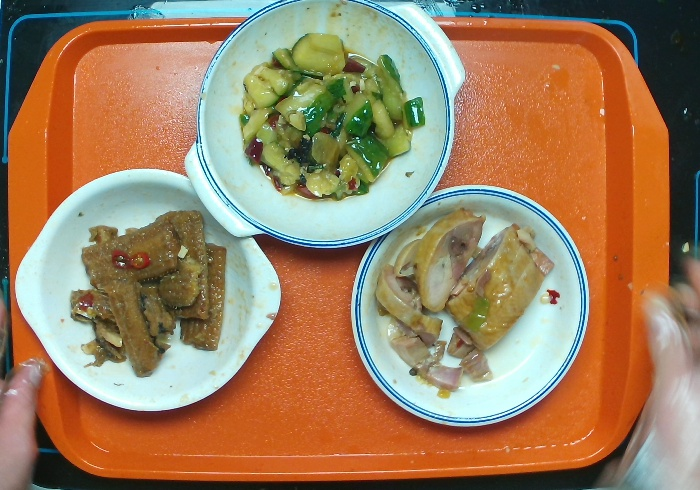HZYJPL-Dai_Er_Bai_Yuan_Wan: (5, 155, 294, 418)
HZYJPL-Lan_Bian_Dai_Er_Wan: (177, 1, 484, 254)
HZYJPL-Lan_Bian_Yuan_Die: (342, 178, 596, 438)
